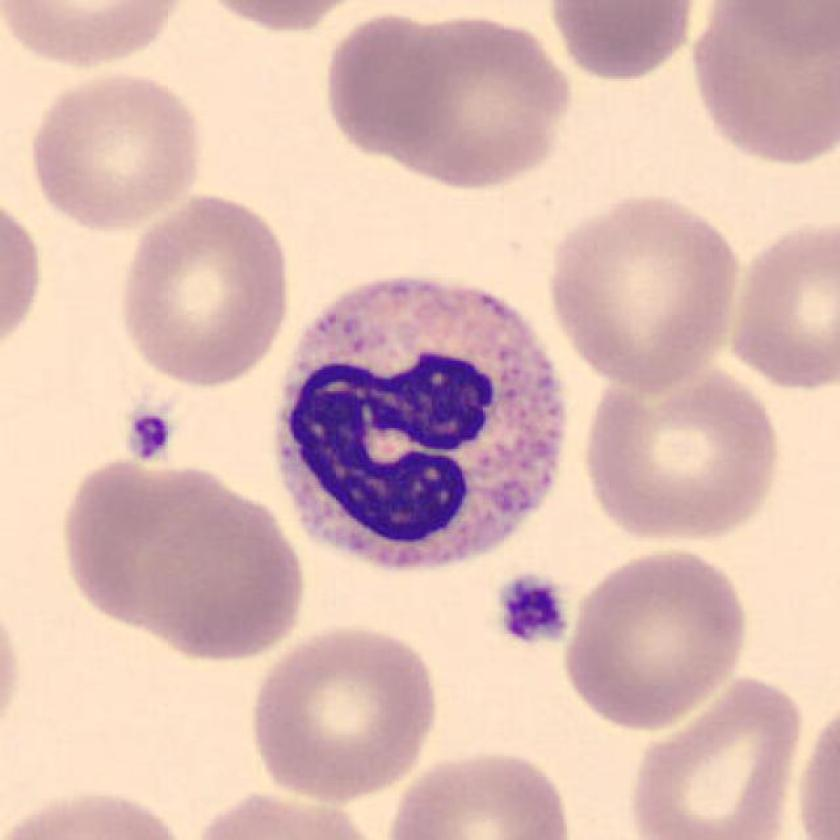neutrophil: (276, 280, 570, 572)
